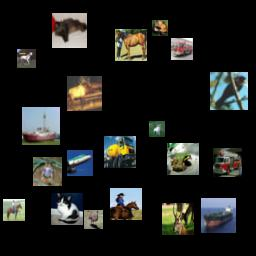airplane: (67, 150, 93, 176)
bird: (210, 72, 248, 110), (84, 210, 103, 229)
cat: (52, 13, 87, 48), (51, 193, 83, 225), (149, 121, 165, 137), (152, 20, 168, 36)
deer: (67, 76, 102, 111), (162, 203, 194, 235)
frog: (167, 143, 199, 175), (33, 157, 62, 186)
ship: (22, 107, 60, 145), (201, 198, 236, 233)
truck: (104, 136, 136, 168), (213, 148, 242, 177), (171, 38, 193, 60)
